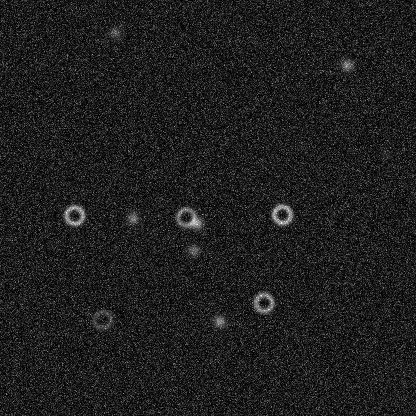Ring: (251, 290, 275, 314), (173, 205, 197, 229), (90, 307, 114, 331), (269, 202, 293, 226), (62, 203, 86, 227)
Spot: (124, 210, 140, 226), (188, 215, 204, 231), (376, 146, 392, 162), (338, 57, 354, 73), (211, 313, 227, 329), (185, 242, 201, 258), (107, 24, 123, 40)
